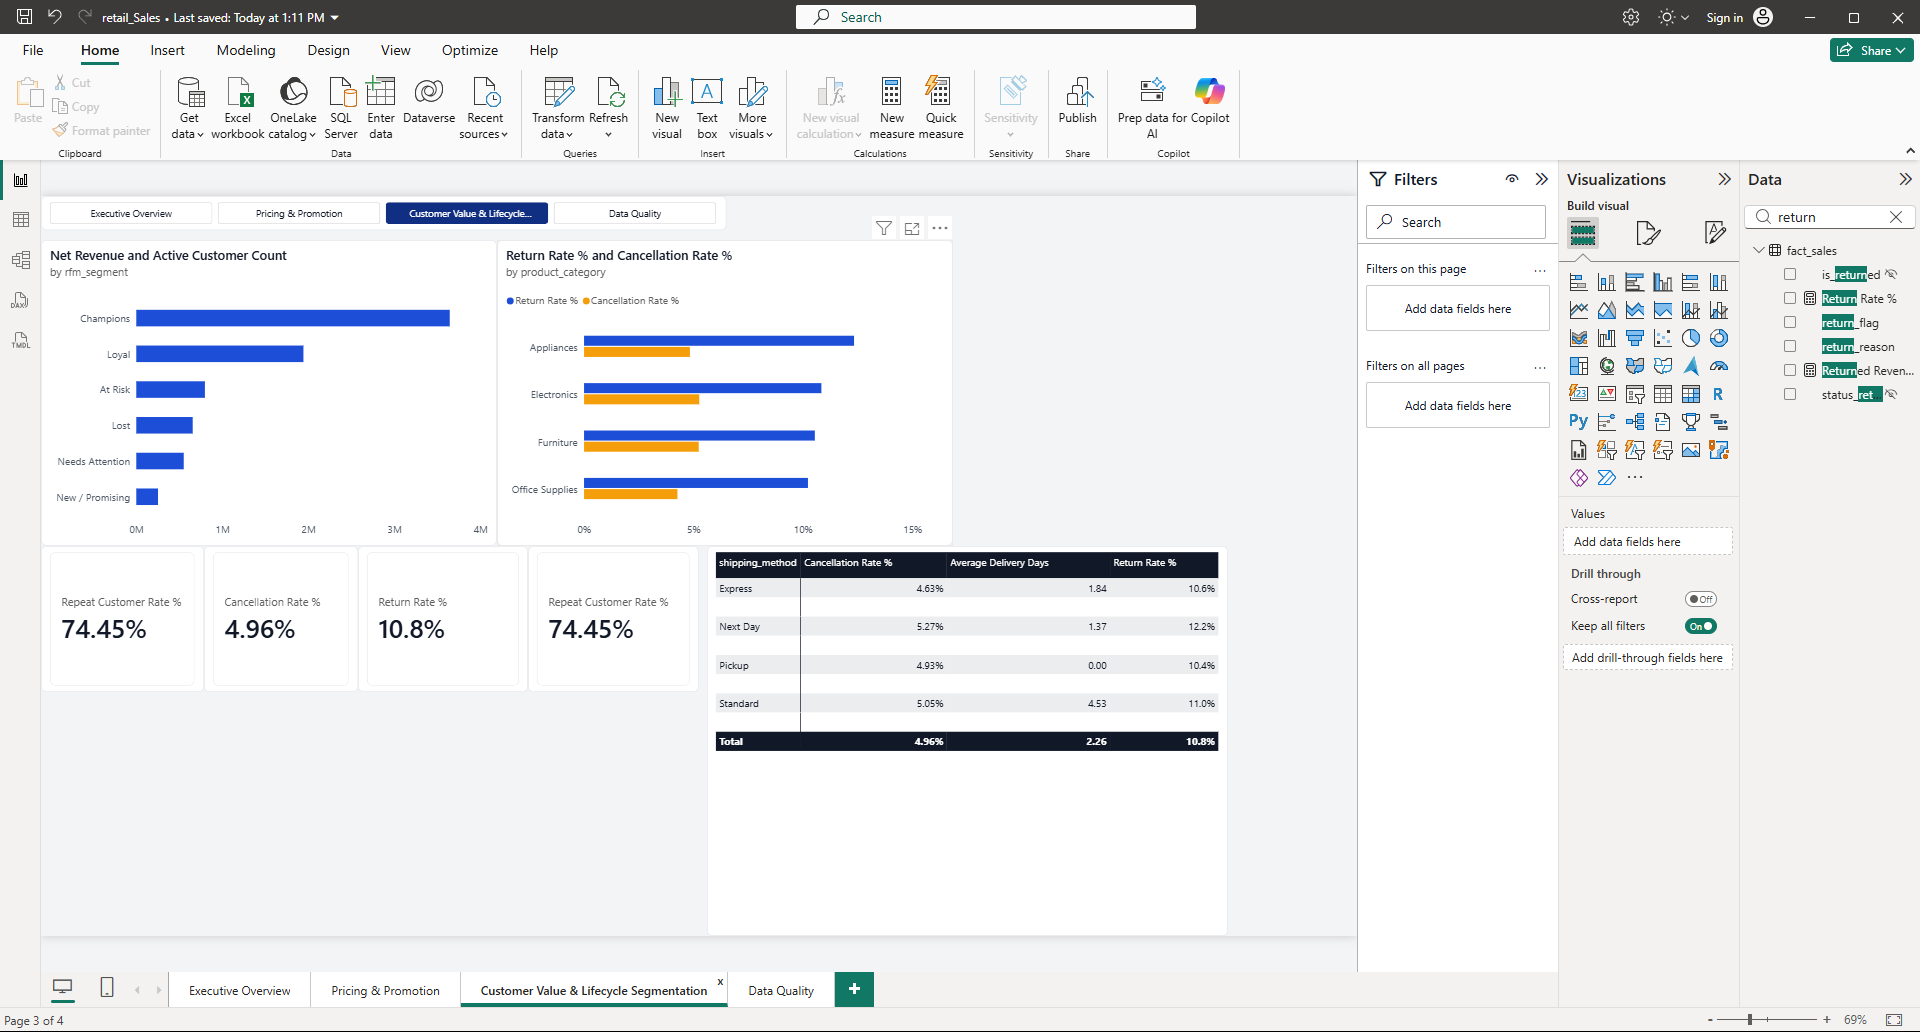

Layout of this report page (visuals, bound fields, positions):
{"tool":"powerbi","page":{"name":"Customer Value & Lifecycle Segmentation","canvas":[1920,1080],"ordinal":2},"visuals":[{"type":"pageNavigator","box":[0,0,1920,78.8],"z":0},{"type":"barChart","fields":{"Category":["v_customer_rfm.rfm_segment"],"Y":["fact_sales.Net Revenue"]},"box":[0,579.2,710.5,500.4],"z":1000},{"type":"cardVisual","fields":{"Data":["fact_sales.Repeat Customer Rate %"]},"box":[1672,866.6,248,213],"z":2000},{"type":"cardVisual","fields":{"Data":["fact_sales.Cancellation Rate %"]},"box":[1672,653.6,248,213],"z":3000},{"type":"cardVisual","fields":{"Data":["fact_sales.Return Rate %"]},"box":[1672,440.6,248,213],"z":4000},{"type":"clusteredBarChart","fields":{"Category":["dim_product.product_category"],"Y":["fact_sales.Return Rate %","fact_sales.Cancellation Rate %"]},"box":[0,124,819.9,455.2],"z":5000},{"type":"pivotTable","fields":{"Rows":["fact_sales.shipping_method"],"Values":["fact_sales.Cancellation Rate %","fact_sales.Average Delivery Days","fact_sales.Return Rate %"]},"box":[710.5,579.2,760.1,500.4],"z":6000}]}

Visuals, with their boxes on the page's 1920x1080 design canvas (x1, y1, x2, y2). These are canvas units, not pixel positions in the 1920x1032 screenshot, which may show the page scaled, cropped or inside an application window:
pageNavigator: l=0, t=0, r=1920, b=79
barChart - v_customer_rfm.rfm_segment x fact_sales.Net Revenue: l=0, t=579, r=710, b=1080
cardVisual - fact_sales.Repeat Customer Rate %: l=1672, t=867, r=1920, b=1080
cardVisual - fact_sales.Cancellation Rate %: l=1672, t=654, r=1920, b=867
cardVisual - fact_sales.Return Rate %: l=1672, t=441, r=1920, b=654
clusteredBarChart - dim_product.product_category x fact_sales.Return Rate %: l=0, t=124, r=820, b=579
pivotTable - fact_sales.shipping_method x fact_sales.Cancellation Rate %: l=710, t=579, r=1471, b=1080
